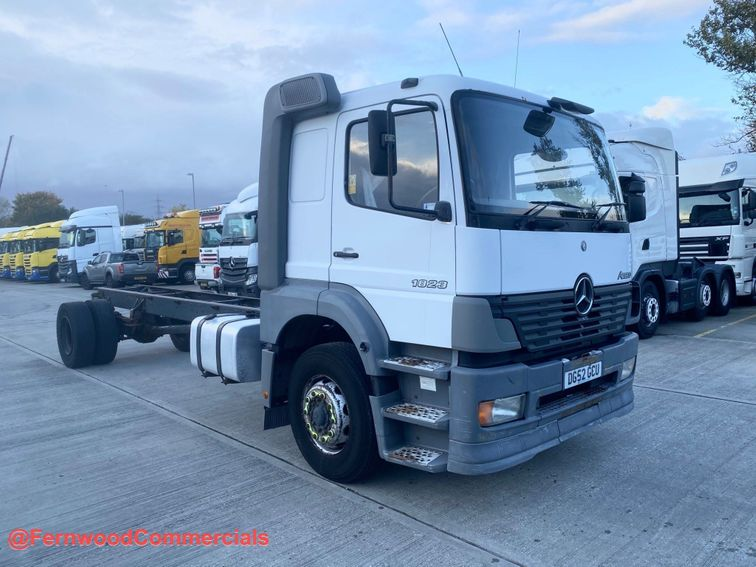Semi: (55, 72, 638, 483), (57, 204, 123, 279), (216, 183, 257, 290), (145, 208, 199, 284)
Truck: (82, 251, 160, 287)
